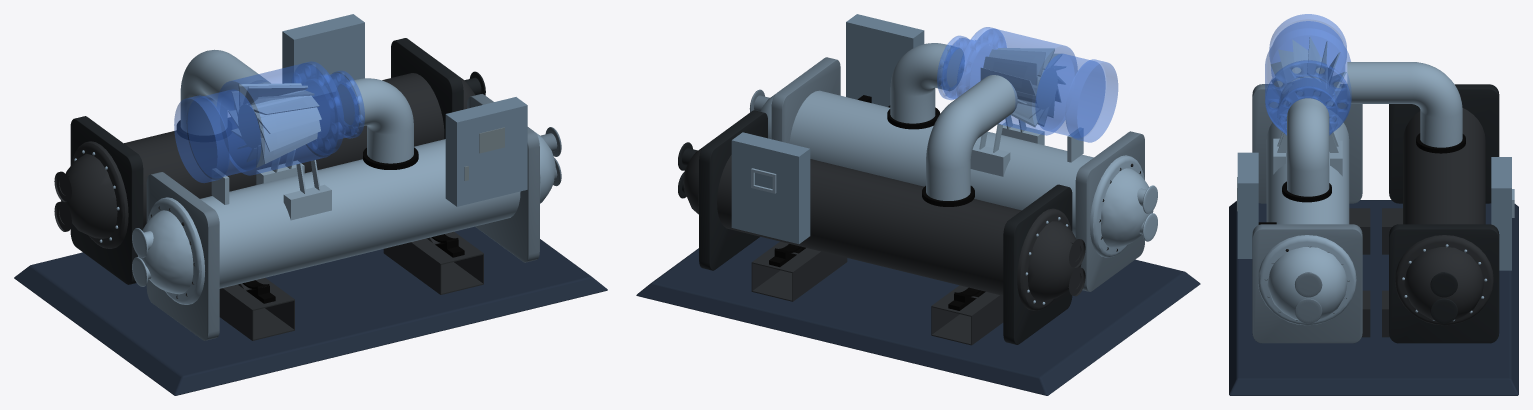
The model's file is 离心机.glb.
3 renders of one model, left to right at view 1: azimuth 30°, elevation 25°; view 2: azimuth 150°, elevation 25°; view 3: azimuth 270°, elevation 25°, orthographic. The views are drawn at different scales.
Visible parts, largest first — view 1: 立方体094, 柱体192, 柱体193, 柱体177, 立方体138, 柱体270, 立方体145, 柱体178, 立方体139, 柱体268, 立方体143, 柱体269 (+14 smaller); view 2: 立方体094, 柱体193, 柱体192, 立方体145, 柱体177, 柱体269, 柱体178, 立方体138, 立方体144, 立方体143, 柱体268, 立方体139 (+13 smaller); view 3: 立方体094, 柱体193, 立方体135, 立方体144, 柱体269, 柱体192, 柱体268, 柱体177, 立方体143, 立方体139, 球体054, 球体052 (+20 smaller).
Part boxes in pixels (x1=…): 立方体094: x1=14, y1=226, x2=607, y2=395; 柱体192: x1=200, y1=139, x2=520, y2=288; 柱体193: x1=124, y1=73, x2=444, y2=227; 柱体177: x1=217, y1=63, x2=338, y2=175; 立方体138: x1=445, y1=97, x2=527, y2=206; 柱体270: x1=228, y1=83, x2=321, y2=167; 立方体145: x1=282, y1=14, x2=364, y2=96; 柱体178: x1=187, y1=89, x2=261, y2=177; 立方体139: x1=146, y1=172, x2=219, y2=340; 柱体268: x1=336, y1=78, x2=413, y2=163; 立方体143: x1=70, y1=116, x2=143, y2=284; 柱体269: x1=180, y1=49, x2=270, y2=135; 立方体094: x1=636, y1=236, x2=1200, y2=395; 柱体193: x1=717, y1=155, x2=1021, y2=295; 柱体192: x1=789, y1=90, x2=1093, y2=237; 立方体145: x1=731, y1=132, x2=810, y2=244; 柱体177: x1=962, y1=28, x2=1077, y2=135; 柱体269: x1=926, y1=75, x2=1017, y2=200; 柱体178: x1=1035, y1=53, x2=1105, y2=137; 立方体138: x1=846, y1=14, x2=924, y2=106; 立方体144: x1=699, y1=110, x2=767, y2=270; 立方体143: x1=1003, y1=184, x2=1072, y2=344; 柱体268: x1=890, y1=43, x2=964, y2=123; 立方体139: x1=1075, y1=131, x2=1144, y2=291; 立方体094: x1=1229, y1=200, x2=1518, y2=395; 柱体193: x1=1403, y1=108, x2=1485, y2=224; 立方体135: x1=1252, y1=224, x2=1362, y2=343; 立方体144: x1=1389, y1=224, x2=1499, y2=343; 柱体269: x1=1347, y1=62, x2=1462, y2=147; 柱体192: x1=1266, y1=109, x2=1349, y2=224; 柱体268: x1=1287, y1=98, x2=1329, y2=196; 柱体177: x1=1265, y1=28, x2=1351, y2=130; 立方体143: x1=1389, y1=84, x2=1499, y2=203; 立方体139: x1=1252, y1=84, x2=1362, y2=203; 球体054: x1=1267, y1=247, x2=1347, y2=320; 球体052: x1=1404, y1=247, x2=1483, y2=320.
Bounding box in the file's own units: 147 × 81.95 × 94.87.
